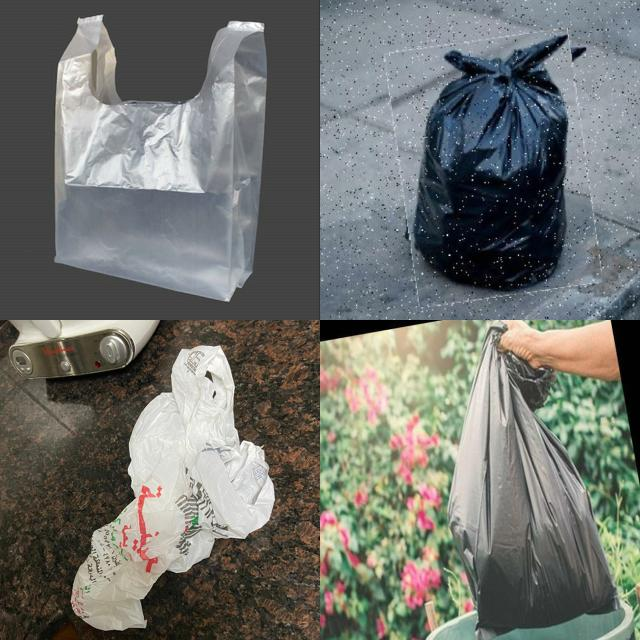Single-layer Plastic: (55, 16, 266, 301), (71, 346, 274, 630), (449, 322, 618, 634), (414, 35, 568, 289)
